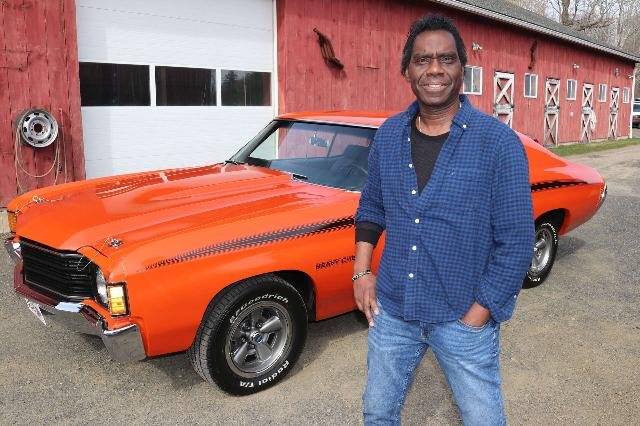chevelle-1972: (3, 110, 400, 396), (514, 132, 607, 290), (410, 100, 499, 236)
